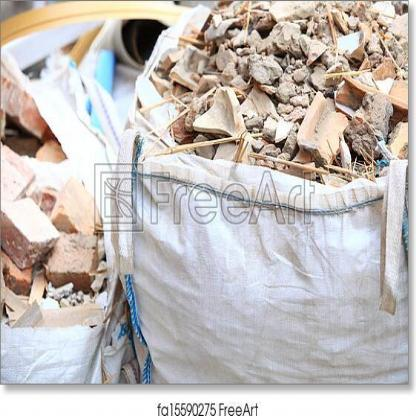brick: (130, 0, 408, 189), (1, 45, 129, 328)
